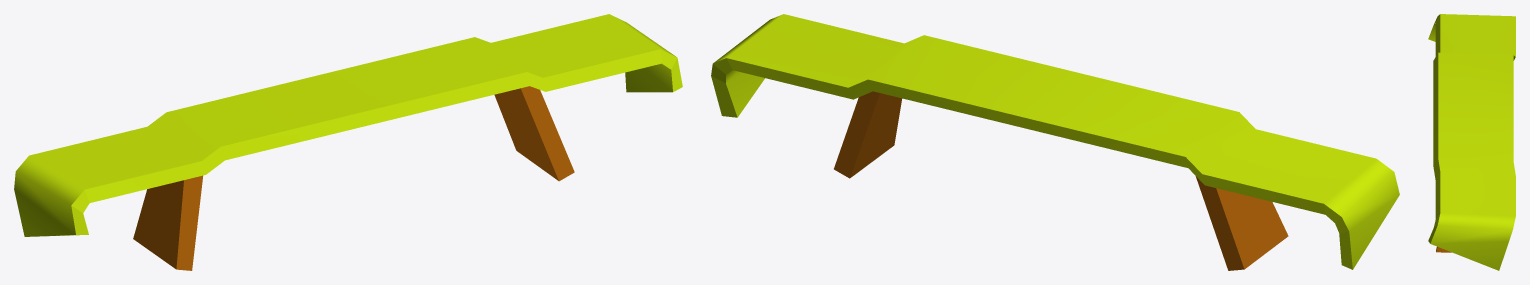
The model's file is Spoiler06_ColorCoded.fbx.
3 views of the same model, side by side, from view 1: azimuth 30°, elevation 25°; view 2: azimuth 150°, elevation 25°; view 3: azimuth 270°, elevation 25° (orthographic). The views are drawn at different scales.
Parts seen in each view (by area): view 1: Spoiler06; view 2: Spoiler06; view 3: Spoiler06.
Boxes of the visible parts, box(x1,y1,x2,y2) form: Spoiler06: box(14, 14, 682, 270); Spoiler06: box(711, 14, 1399, 270); Spoiler06: box(1428, 14, 1515, 270).
Size of the model in its own units: 34.82 by 6.03 by 6.26.
